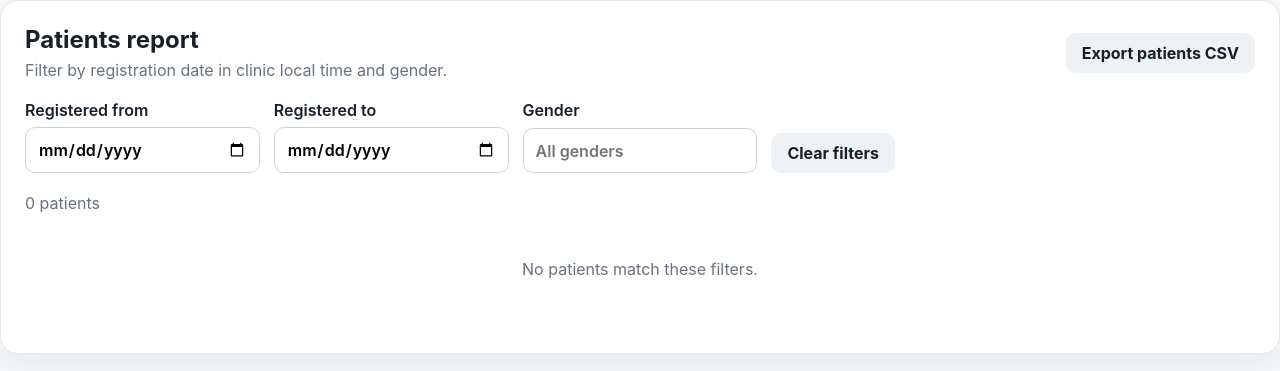
Test: Patient report UI boundary › rejects reversed filters before requesting or exporting
In the date field labelled "Registered from": (142, 150) 25,127 -> 260,173, type "2026-10-16"
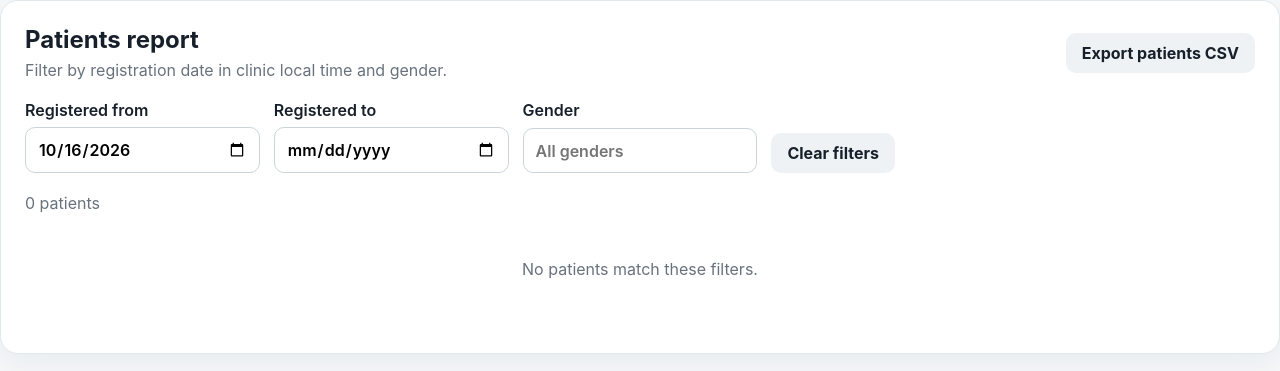
In the date field labelled "Registered to": (391, 150) 274,127 -> 509,173, type "2026-10-01"
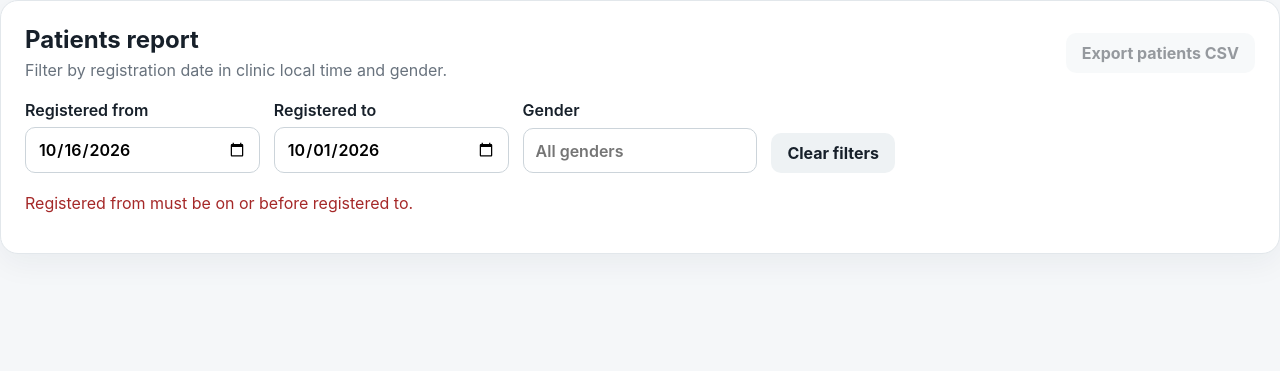
Expected: the message shows "on or before", 25,193 -> 413,213
Expected: the button "Export patients CSV" is disabled, 1066,32 -> 1255,72
